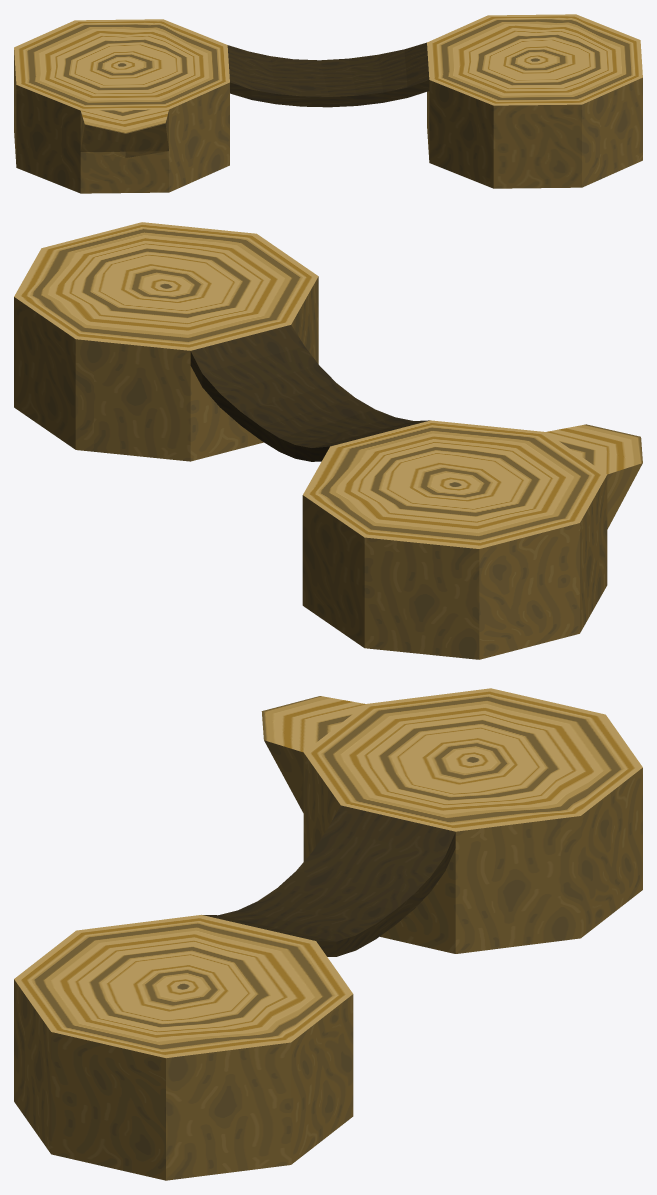
The model's file is BridgeStructure.fbx.
3 renders of one model, top to bottom at view 1: azimuth 30°, elevation 25°; view 2: azimuth 150°, elevation 25°; view 3: azimuth 270°, elevation 25°, orthographic. The views are drawn at different scales.
Visible parts, largest first — view 1: Cube.001, Cube.002; view 2: Cube.001, Cube.002; view 3: Cube.001, Cube.002.
Boxes of the visible parts, box(x1,y1,x2,y2) form: Cube.001: box(14, 14, 642, 193); Cube.002: box(227, 42, 429, 107); Cube.001: box(14, 222, 642, 659); Cube.002: box(190, 325, 429, 461); Cube.001: box(14, 688, 642, 1180); Cube.002: box(203, 805, 455, 956).
Size of the model in its own units: 3959 by 611 by 2844.
